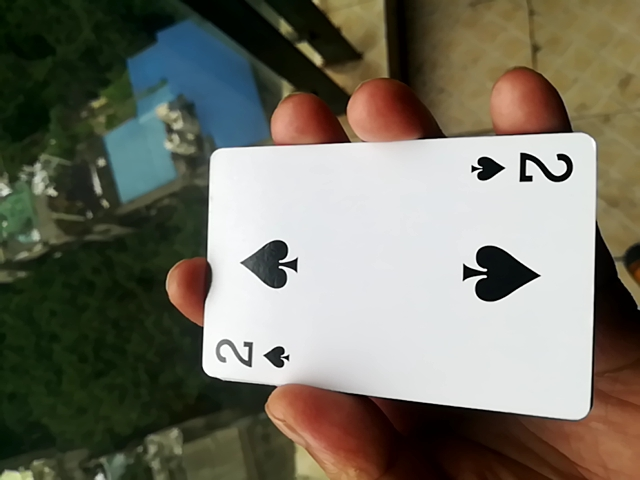ht 2: (190, 136, 587, 425)
